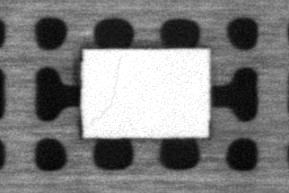DIE_CRACK: (91, 58, 120, 124)
